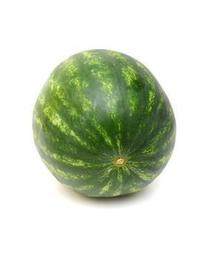watermelon: (32, 48, 177, 199)
